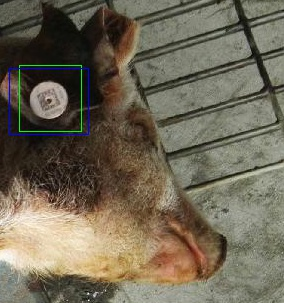text: (19, 65, 81, 131)
